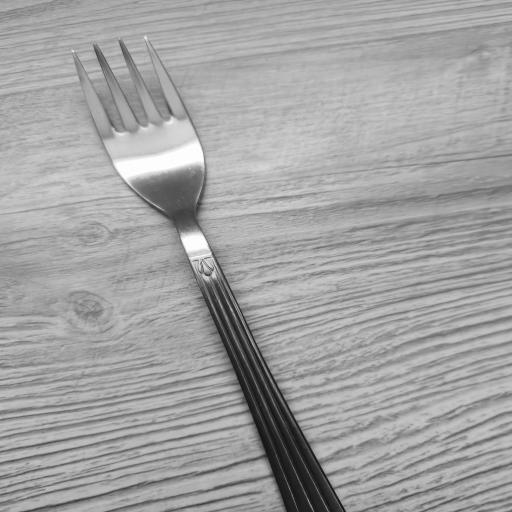fork: (72, 34, 350, 512)
